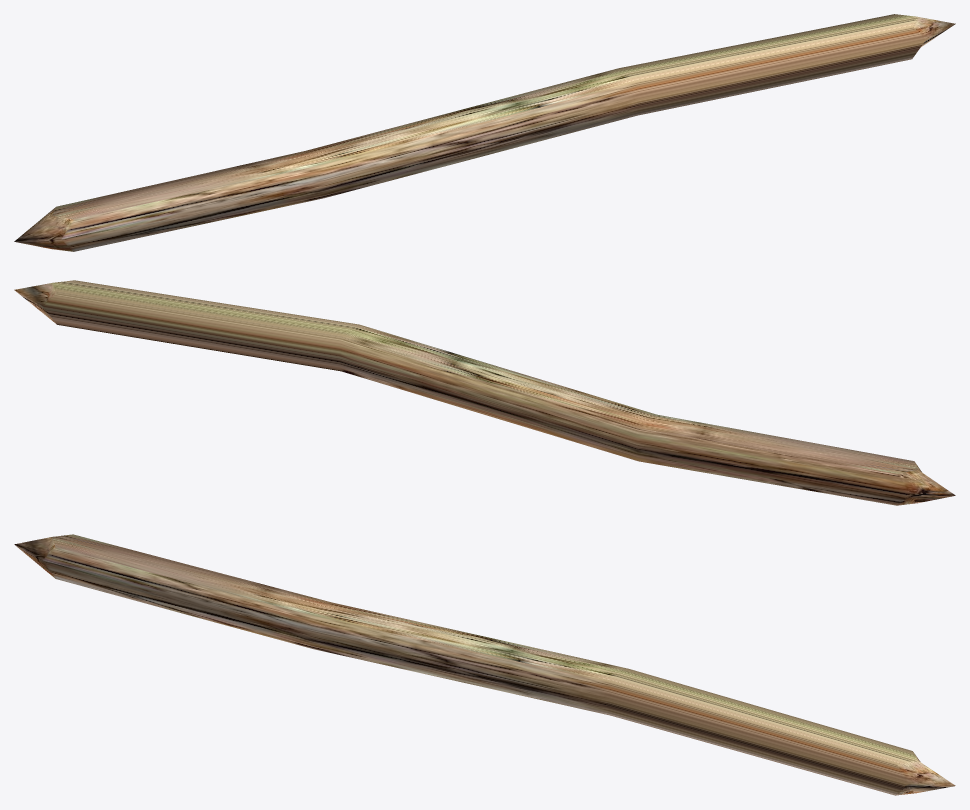
The model's file is stick.fbx.
3 views of the same model, one above another, from view 1: azimuth 30°, elevation 25°; view 2: azimuth 150°, elevation 25°; view 3: azimuth 330°, elevation 25° (orthographic).
Visible parts, largest first — view 1: Куб; view 2: Куб; view 3: Куб.
Part boxes in pixels (<box>): Куб: <box>14,14,955,251</box>; Куб: <box>14,280,955,505</box>; Куб: <box>14,534,955,795</box>.
Bounding box in the file's own units: 30.02 × 1.64 × 1.49.
